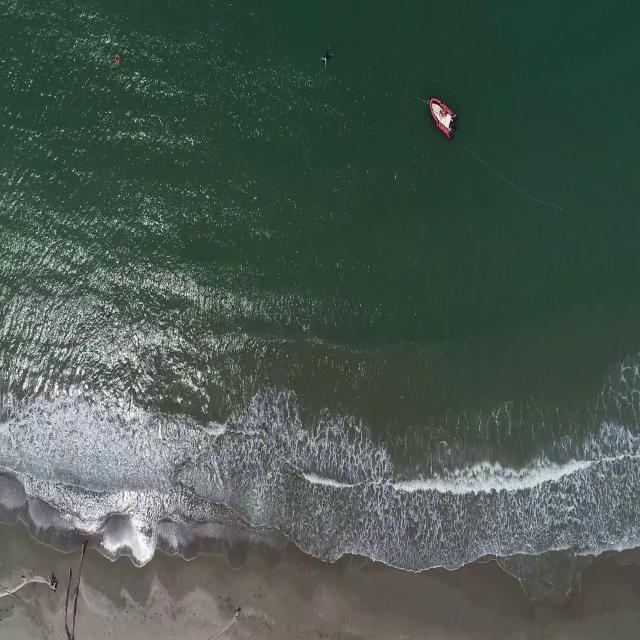boat: (429, 95, 456, 140)
life_buoy: (112, 54, 121, 66)
person: (321, 48, 334, 73)
wood: (176, 606, 243, 640), (65, 540, 87, 637), (0, 574, 62, 598)
